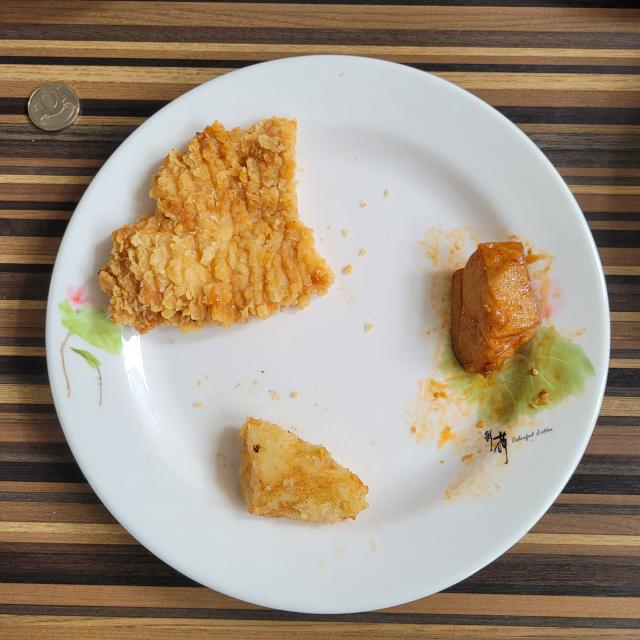coin: (28, 82, 80, 131)
creamy tofu: (451, 241, 541, 376)
fried chicken cutlet: (99, 118, 334, 334)
fried potato: (239, 418, 369, 524)
